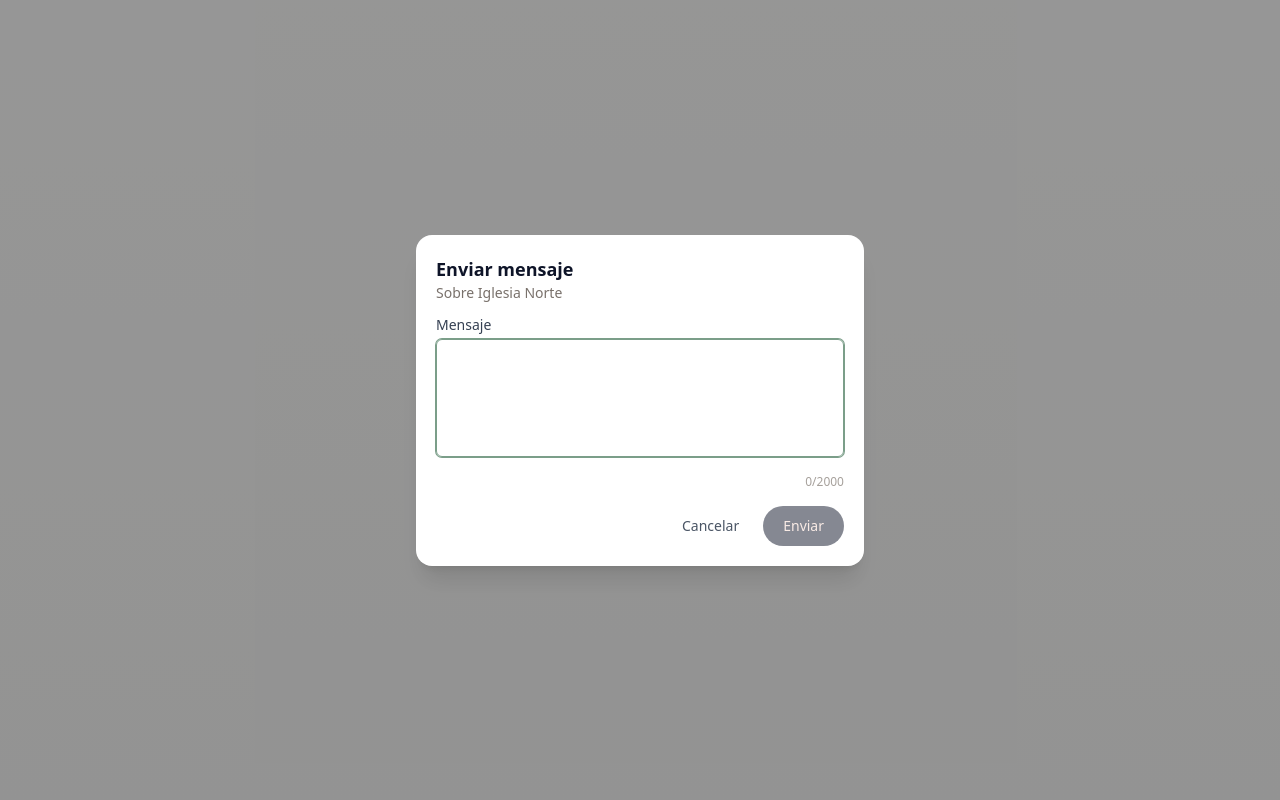
Test case: MessageComposer › shows why sending failed and lets the user retry
Later steps or results of the test are not shown.
Type "Hola" into the text box labelled "Mensaje".
click(640, 398); type("Hola")  # box [436, 338, 844, 456]
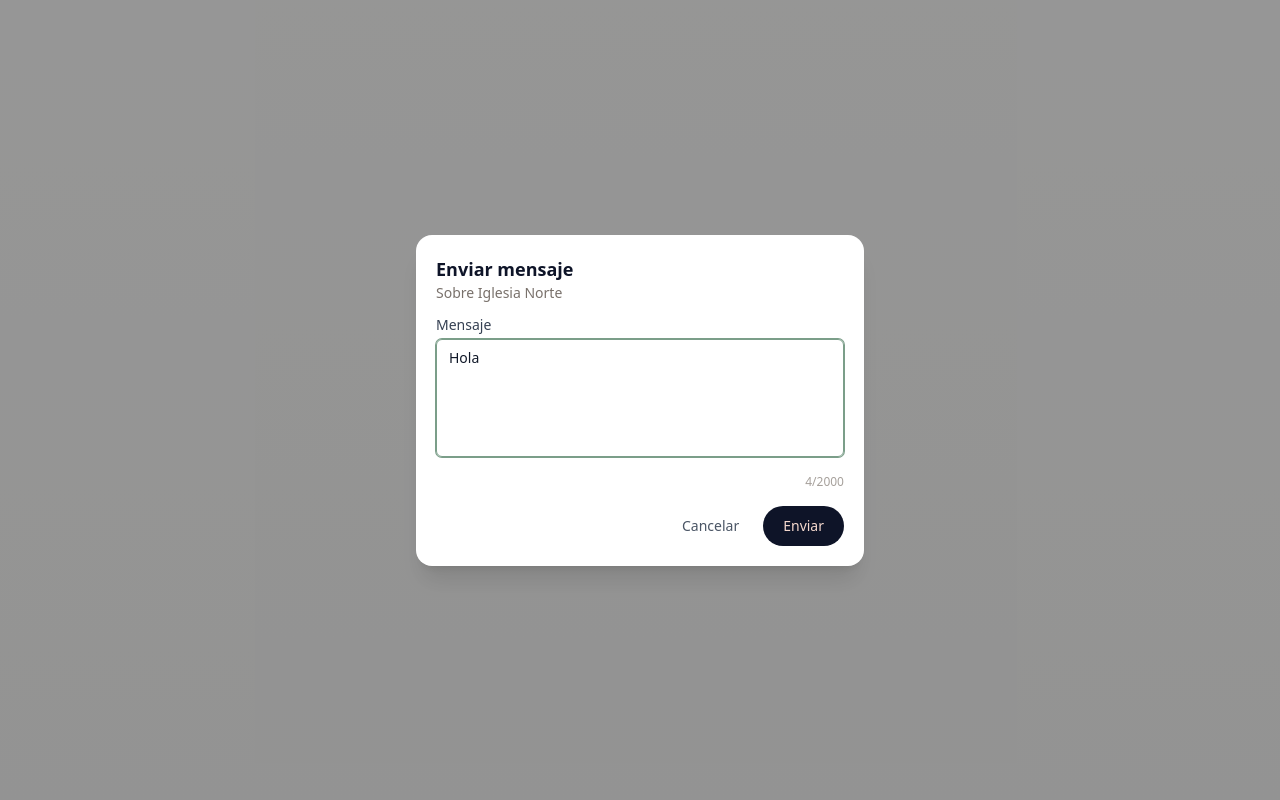
Click the button "Enviar".
click(804, 526)  # box [763, 506, 844, 546]
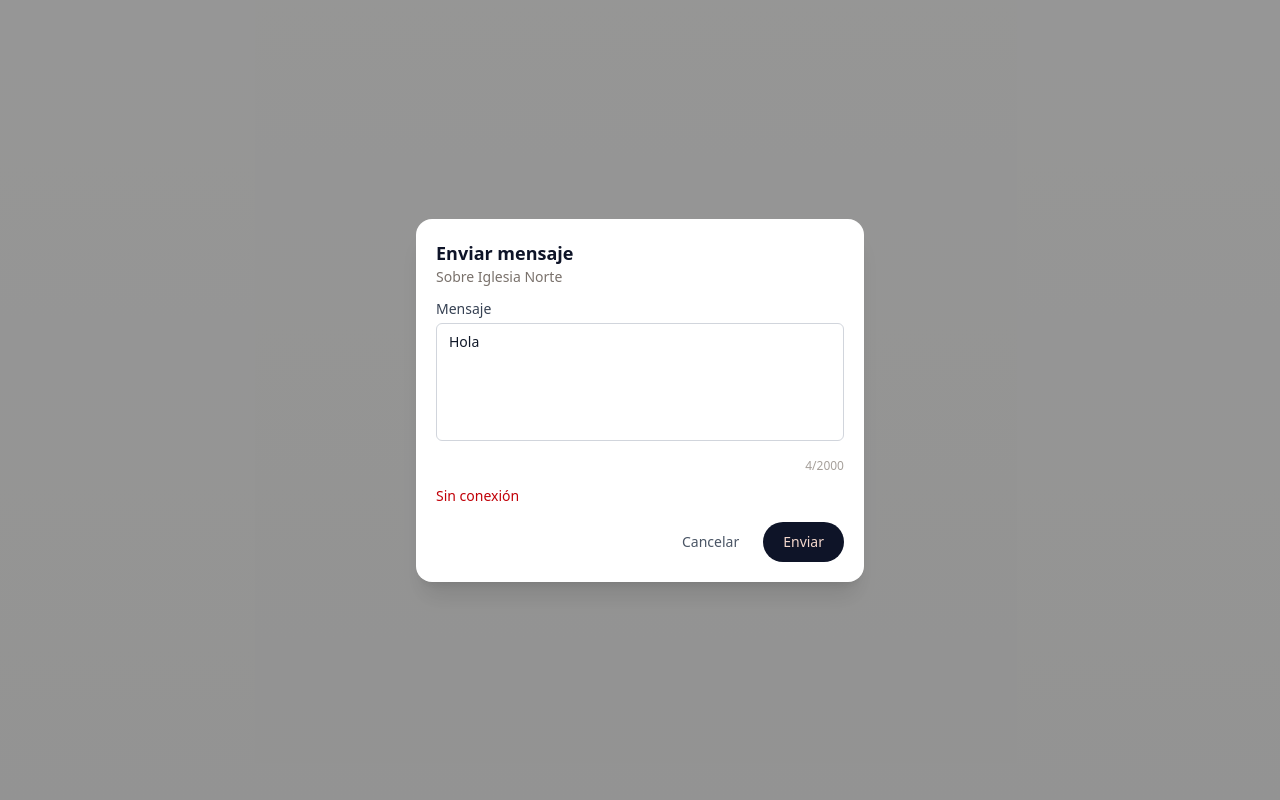
Now the message reads "Sin conexión", box [436, 486, 519, 504]
